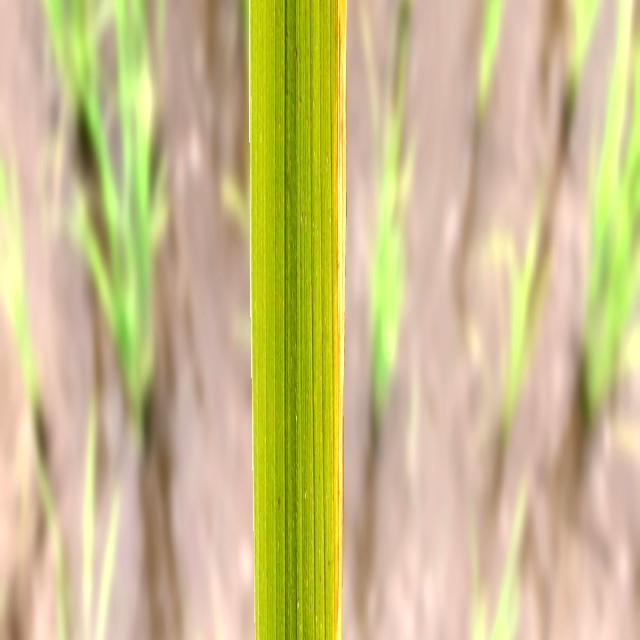BLS: (335, 0, 346, 640)
